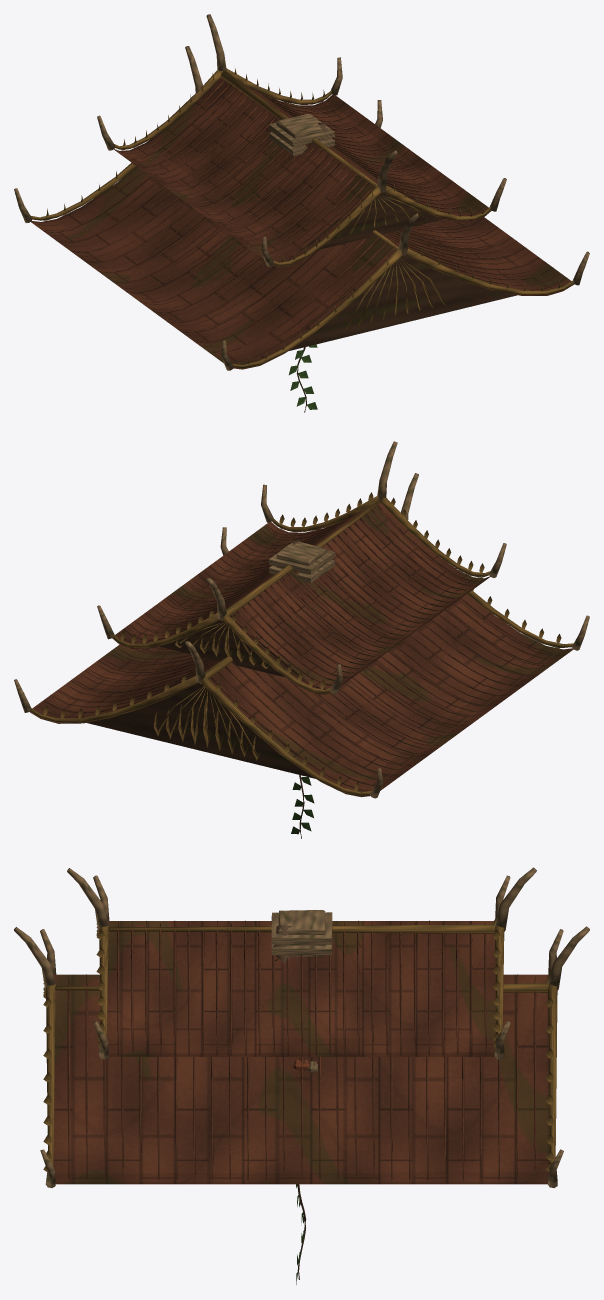
File: sanctuary-kit-low.glb
3 renders of one model, top to bottom at view 1: azimuth 30°, elevation 25°; view 2: azimuth 150°, elevation 25°; view 3: azimuth 270°, elevation 25°, orthographic. The views are drawn at different scales.
Visible parts, largest first — view 1: voting_roof, root_column, hanging_vine; view 2: voting_roof, root_column, hanging_vine; view 3: voting_roof, root_column.
Part boxes in pixels (x1,y1,x2,y2): voting_roof: (14, 14, 589, 370); root_column: (268, 114, 335, 155); hanging_vine: (289, 344, 317, 412); voting_roof: (14, 441, 589, 798); root_column: (268, 539, 335, 583); hanging_vine: (291, 775, 314, 838); voting_roof: (14, 867, 589, 1187); root_column: (271, 910, 332, 963).
Size of the model in its own units: 8.93 by 7.67 by 9.75.
Materials: 2 (2 with a texture image).
